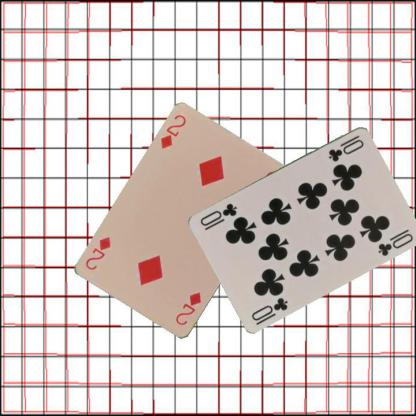10c: (326, 132, 365, 163), (249, 294, 289, 322)
2d: (173, 289, 203, 327), (158, 112, 188, 150)
